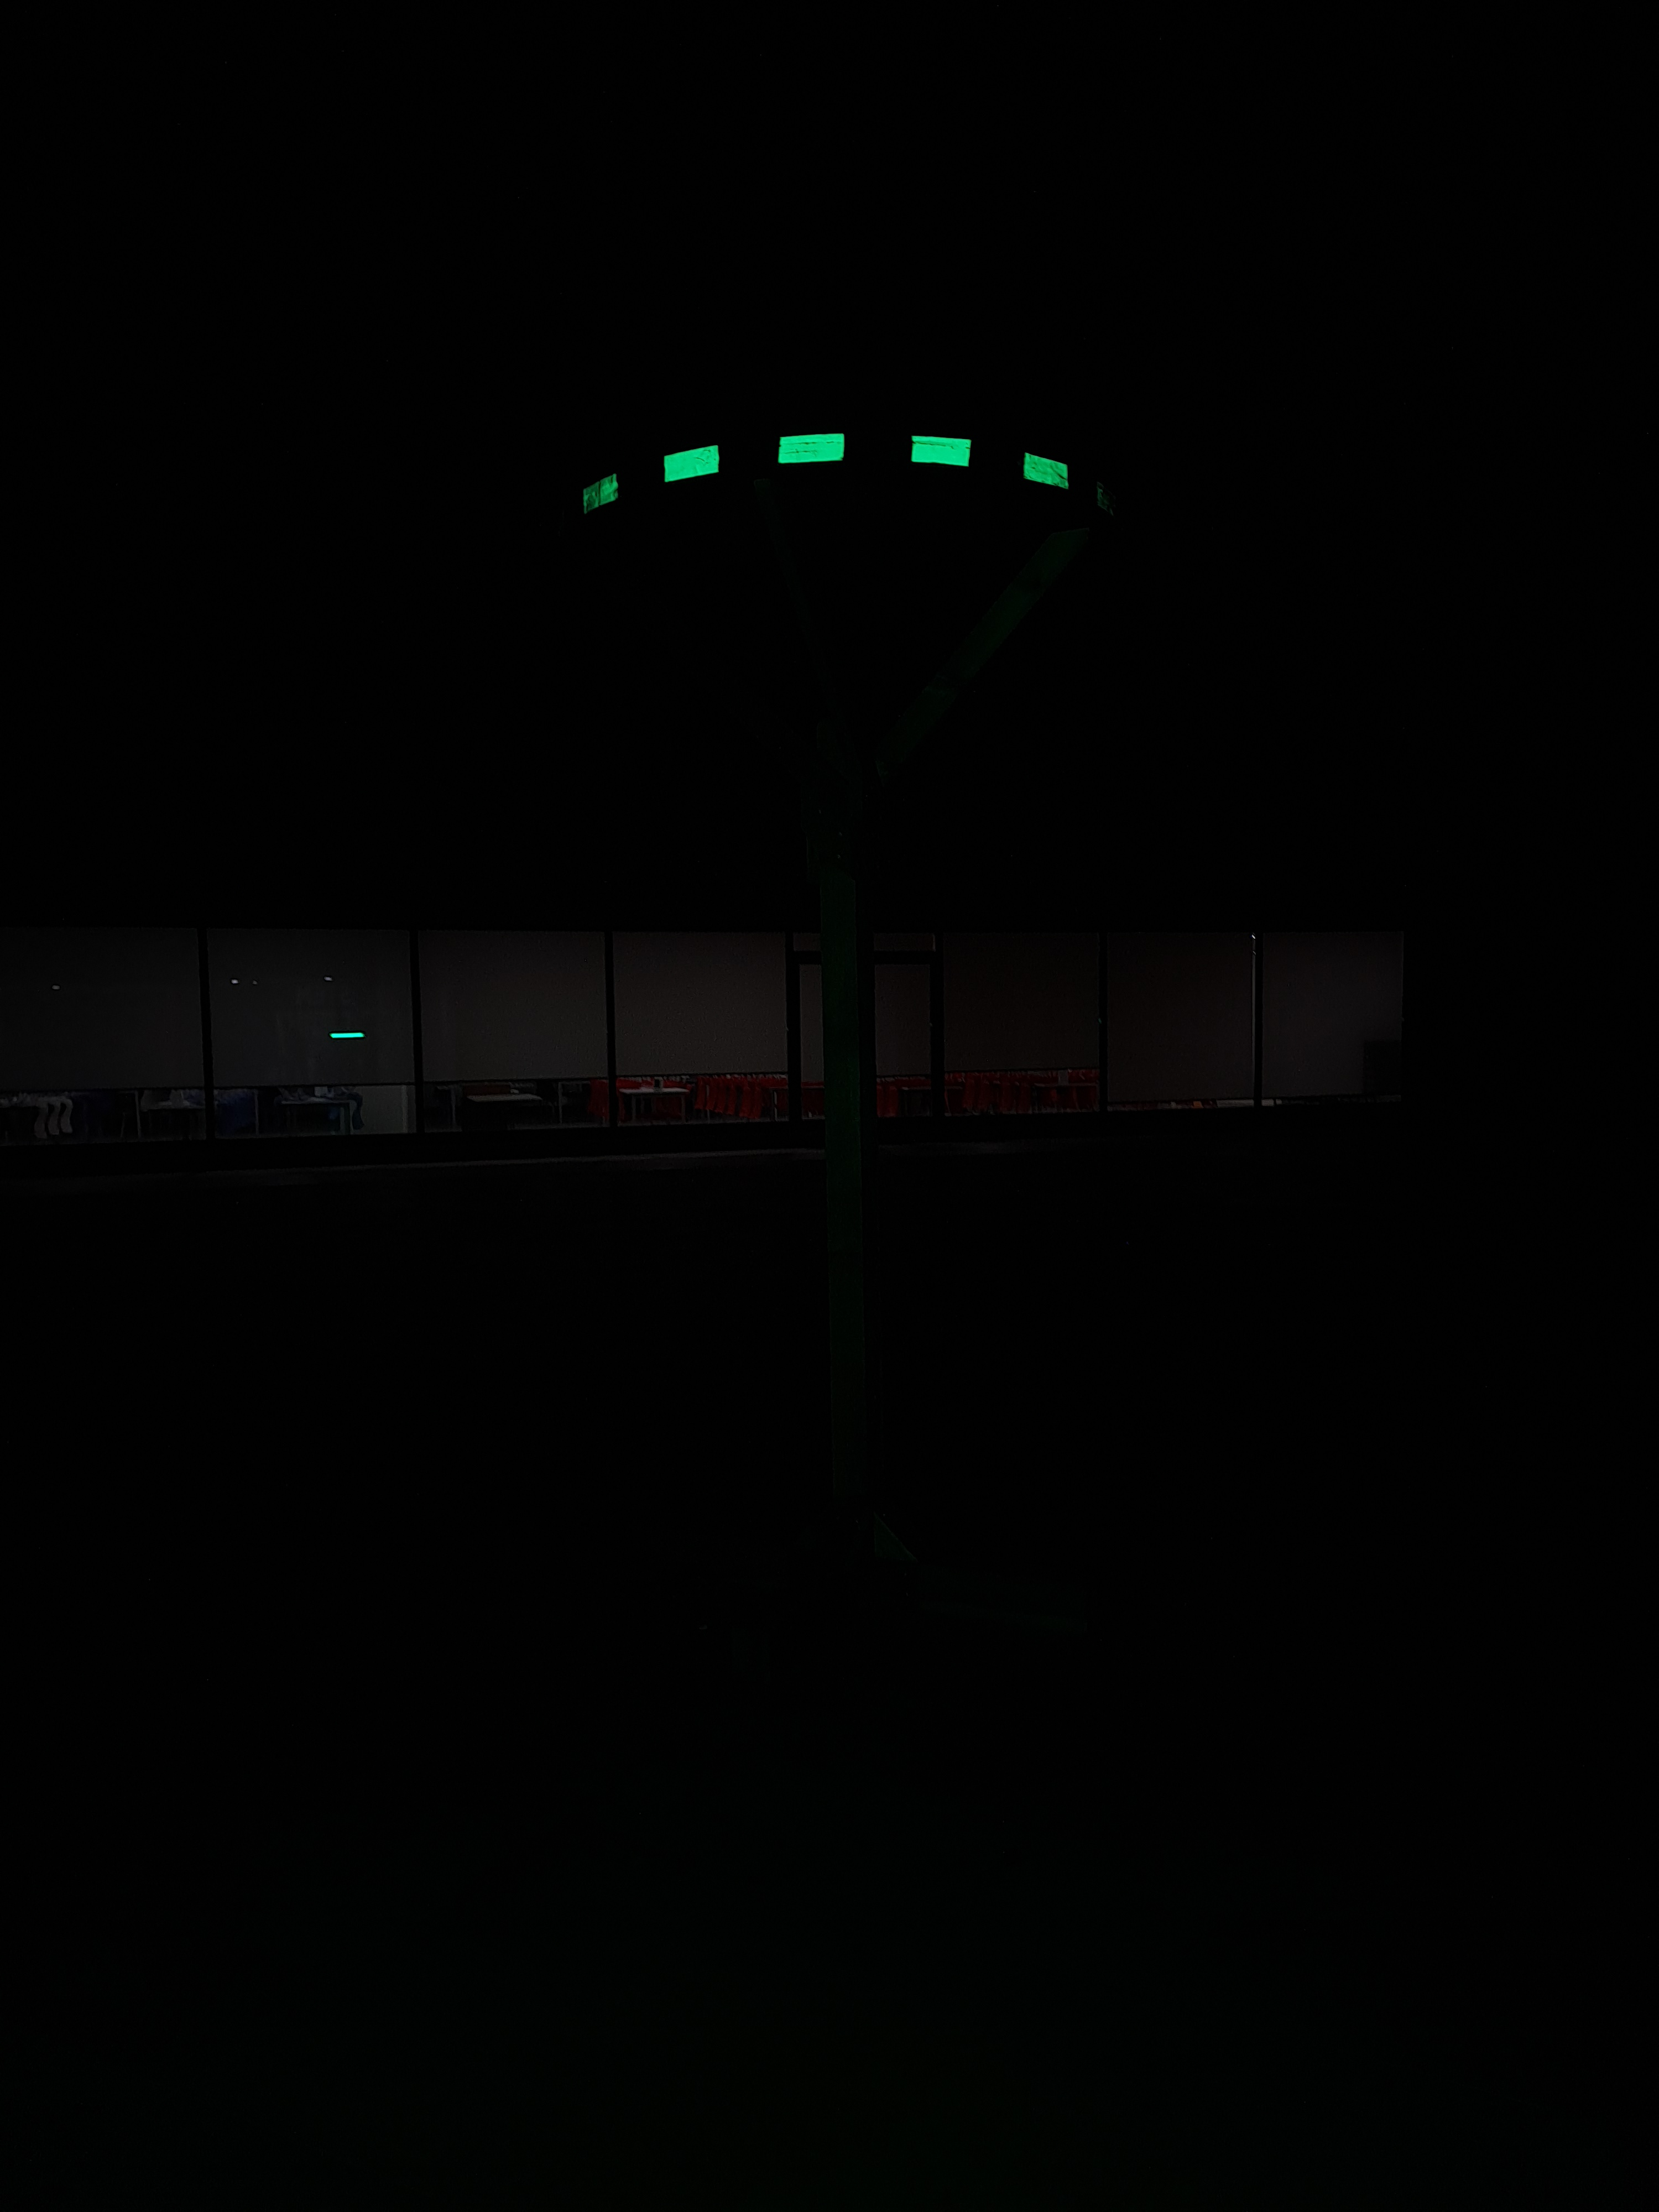hoop: (577, 428, 1077, 528)
